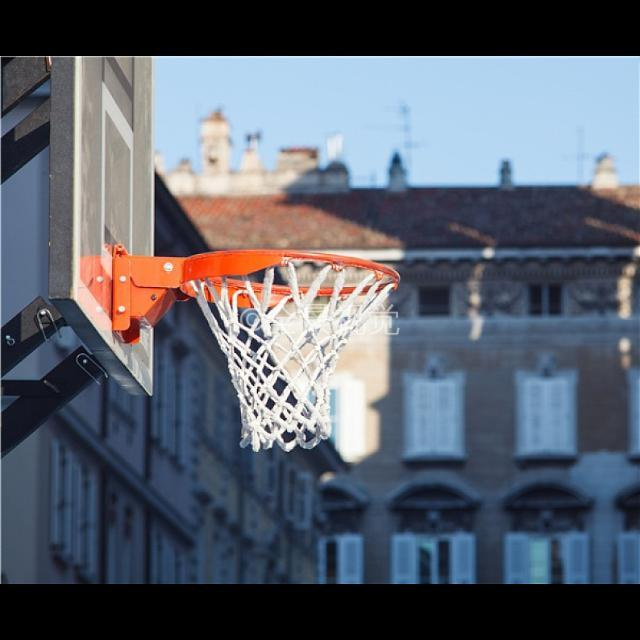rim: (182, 249, 400, 453)
